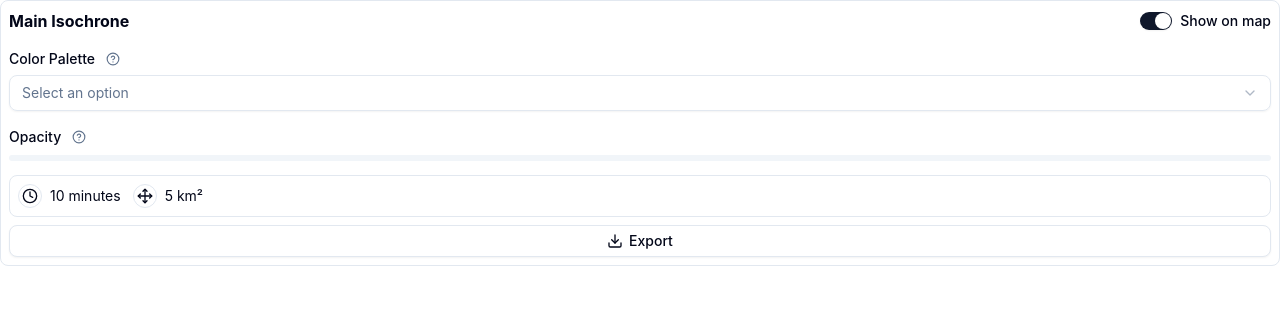
it: IsochroneCard › should show dropdown menu when Export is clicked
Click the button "Export".
click(640, 241)  # box [9,225,1271,257]
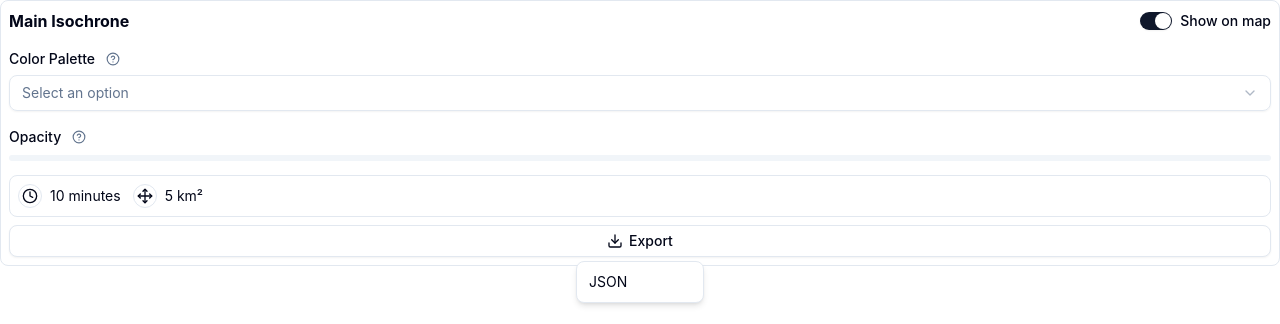
Now the menu item "JSON" is shown, box [589,273,627,290]
